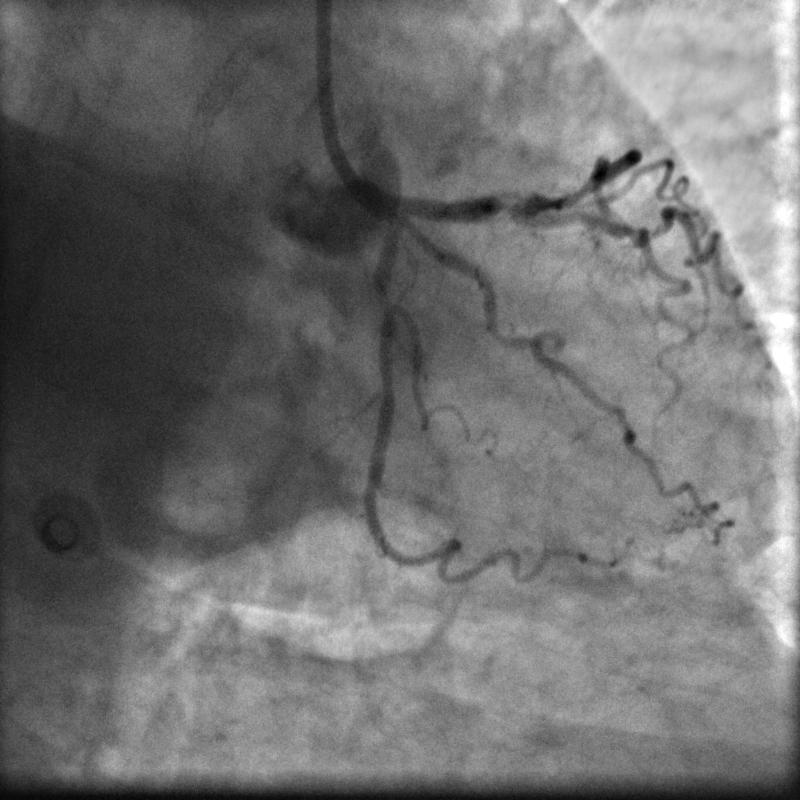Stenosis: (491, 190, 525, 225)
